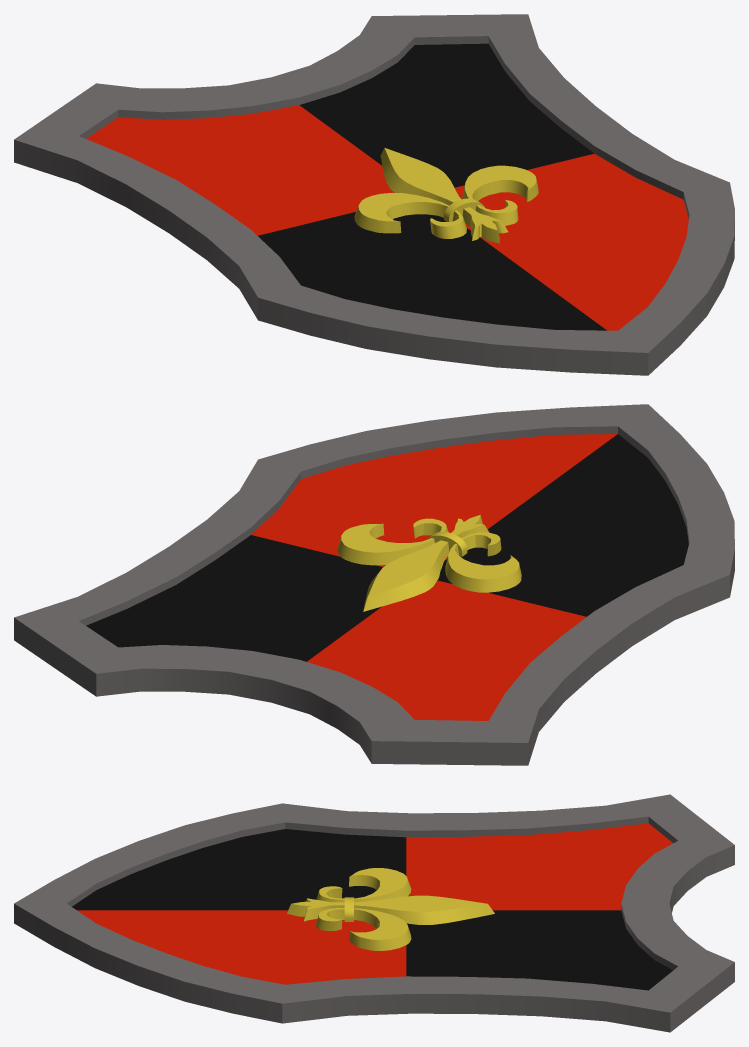
File: PlayerShield.fbx
3 views of the same model, one above another, from view 1: azimuth 30°, elevation 25°; view 2: azimuth 150°, elevation 25°; view 3: azimuth 270°, elevation 25° (orthographic). The views are drawn at different scales.
Visible parts, largest first — view 1: FullShield; view 2: FullShield; view 3: FullShield.
Part boxes in pixels (x1,y1,x2,y2): FullShield: [14, 14, 734, 375]; FullShield: [14, 404, 734, 765]; FullShield: [14, 794, 734, 1032].
Bounding box in the file's own units: 367 × 35.06 × 512.
